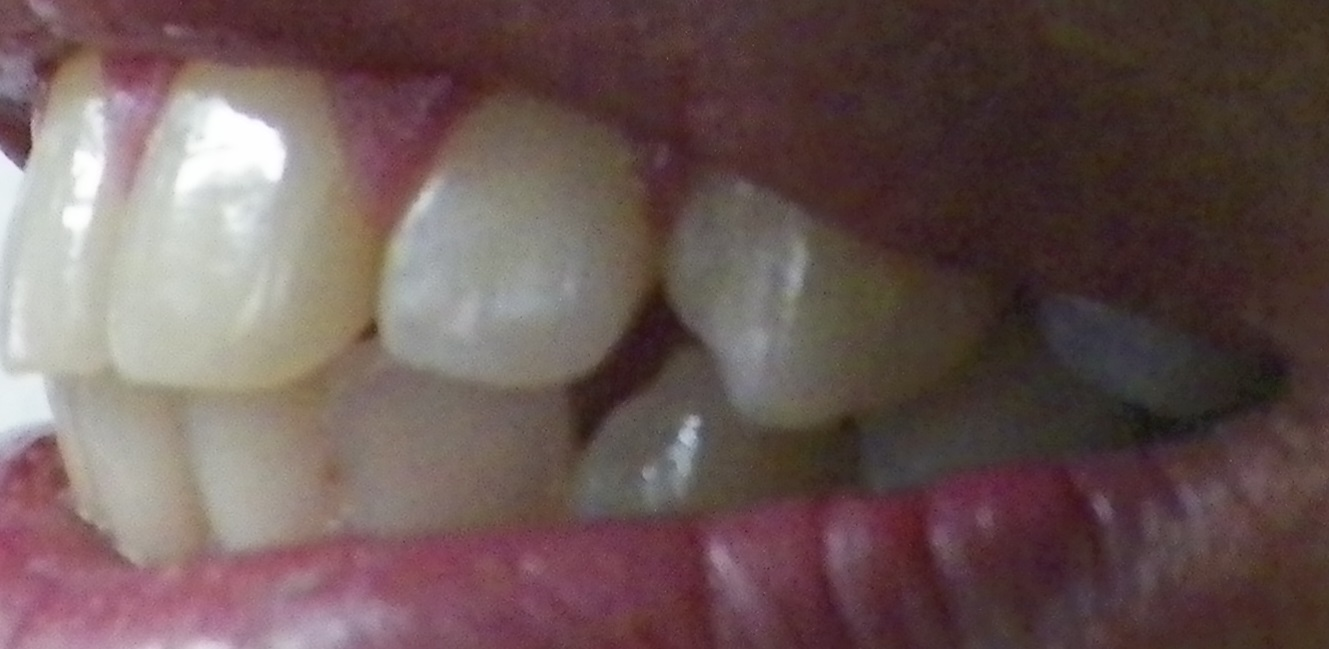boca: (2, 48, 1242, 553)
